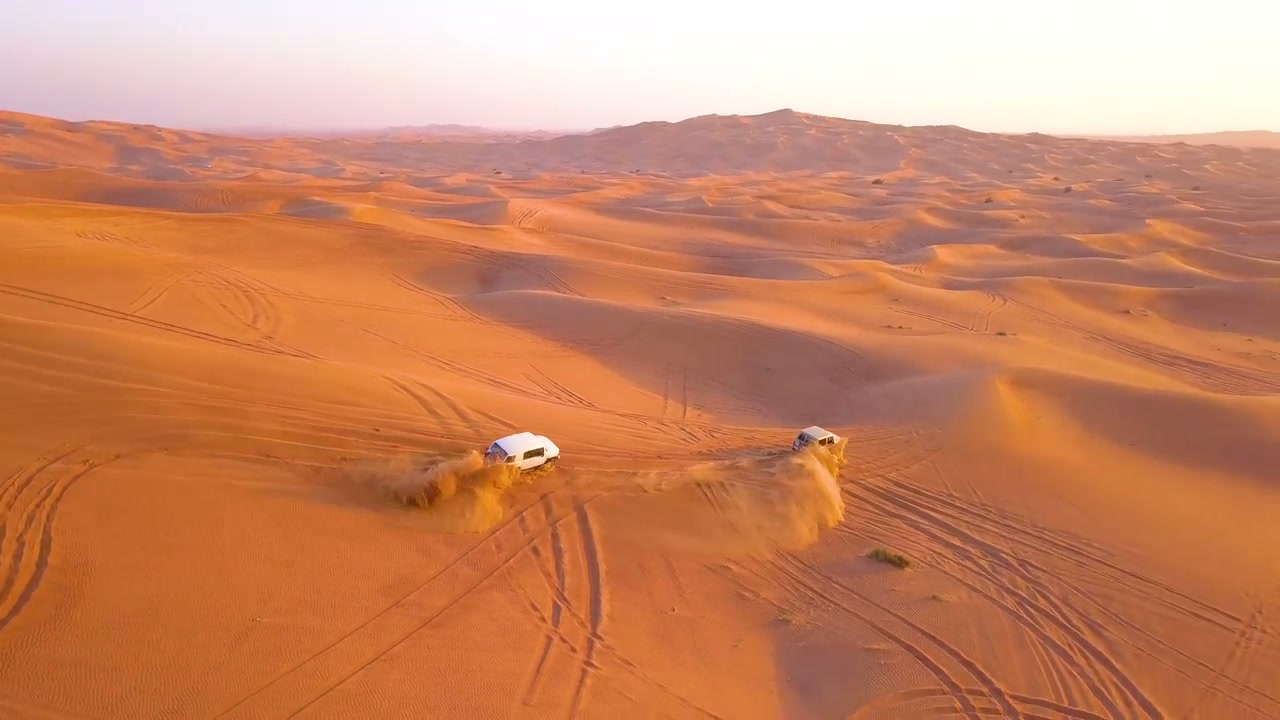vehicle_track: (862, 478, 1279, 716), (885, 482, 1279, 715), (214, 490, 554, 719), (860, 483, 1162, 719), (287, 494, 600, 716), (741, 552, 1103, 719), (770, 553, 1022, 719), (739, 564, 981, 719), (521, 525, 716, 717), (1009, 298, 1279, 394), (0, 445, 123, 631), (0, 283, 304, 356), (680, 309, 875, 386), (200, 263, 319, 359), (521, 527, 576, 704), (1186, 600, 1266, 716), (382, 375, 511, 431), (570, 504, 603, 716), (387, 273, 494, 327), (381, 375, 453, 425), (524, 363, 598, 409), (124, 268, 195, 314), (1009, 692, 1111, 719), (517, 260, 586, 296), (889, 307, 971, 331), (75, 230, 158, 253), (969, 291, 1007, 332)
